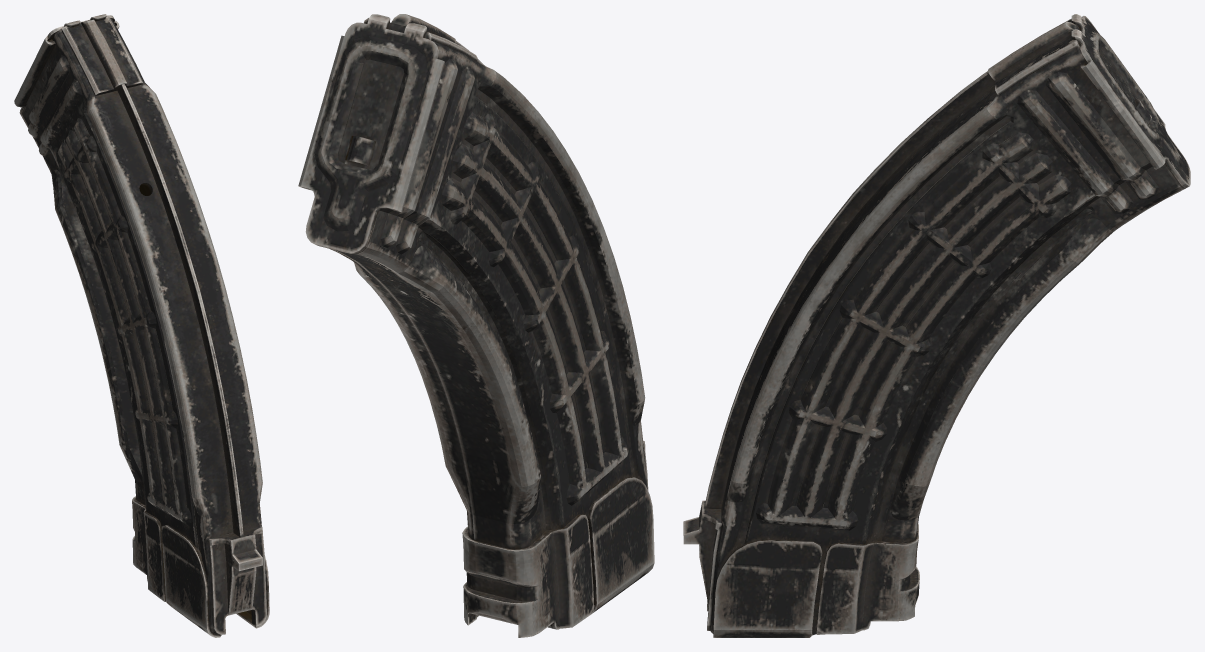
3 views of the same model, side by side, from view 1: azimuth 30°, elevation 25°; view 2: azimuth 150°, elevation 25°; view 3: azimuth 270°, elevation 25° (orthographic). The views are drawn at different scales.
Parts seen in each view (by area): view 1: TW_5a0060fc86f7745793204432_PZ_Import; view 2: TW_5a0060fc86f7745793204432_PZ_Import; view 3: TW_5a0060fc86f7745793204432_PZ_Import.
Part boxes in pixels (left/top/right/bottom): TW_5a0060fc86f7745793204432_PZ_Import: left=14, top=14, right=269, bottom=637; TW_5a0060fc86f7745793204432_PZ_Import: left=298, top=14, right=654, bottom=637; TW_5a0060fc86f7745793204432_PZ_Import: left=683, top=14, right=1190, bottom=637.
Size of the model in its own units: 0.0176 by 0.0885 by 0.116.
1 material, 1 textured.
